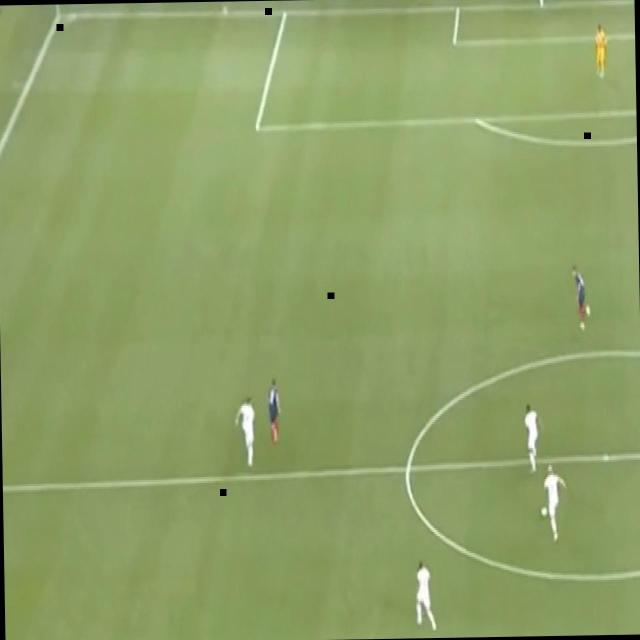ball: (540, 504, 548, 520)
player-white: (412, 553, 439, 637), (542, 462, 568, 545), (521, 402, 547, 480), (236, 390, 258, 470), (568, 260, 592, 332), (264, 374, 284, 448), (591, 18, 611, 86)
